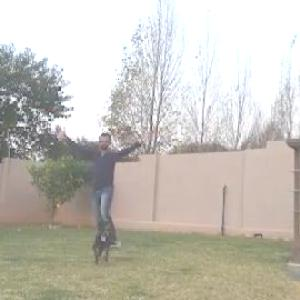takeoff: (69, 124, 168, 248)
